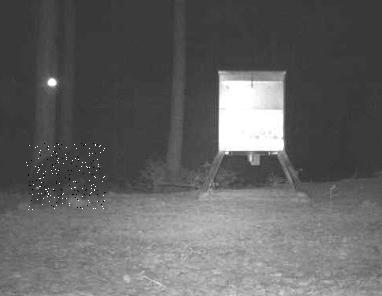Hog: (25, 143, 105, 210)
